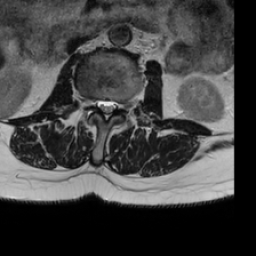CCS_normal: (102, 90, 109, 127)
LFS_stenosis: (117, 91, 125, 117)
LLS_normal: (109, 91, 117, 116)
RFS_normal: (86, 87, 94, 115)
RLS_normal: (94, 90, 102, 116)
